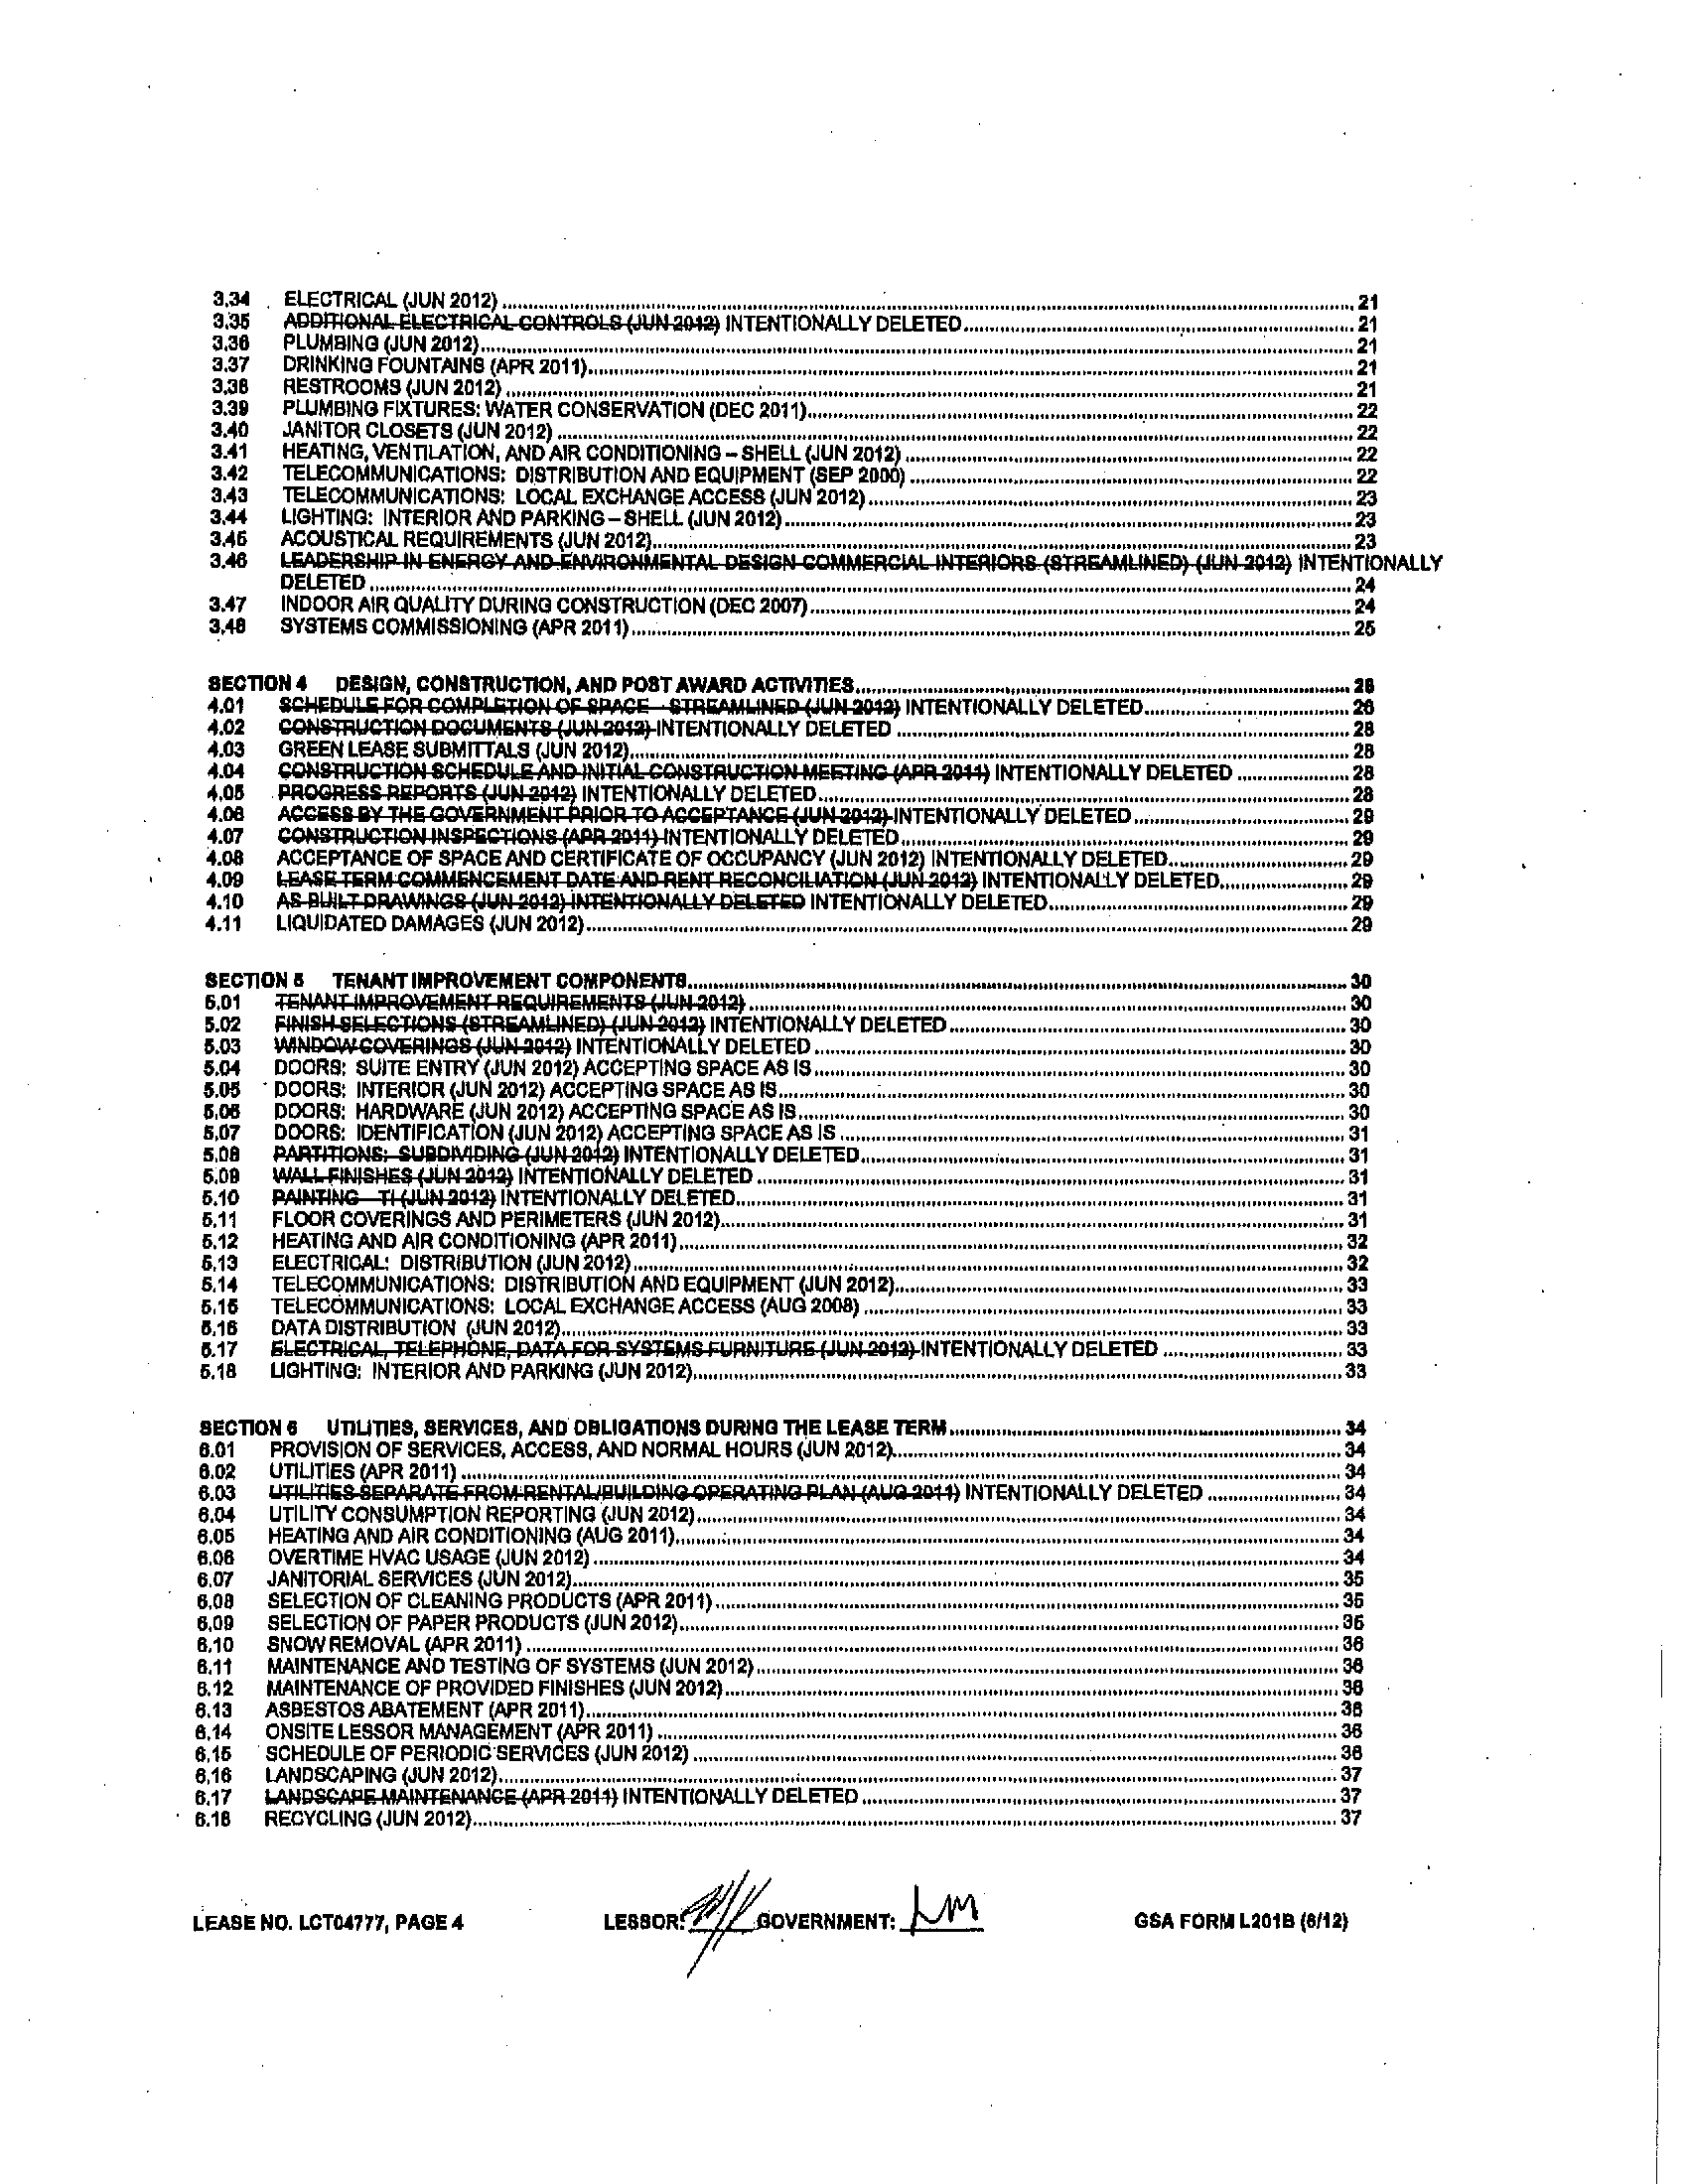handwritten: (679, 1842, 775, 1973), (890, 1868, 982, 1941)
